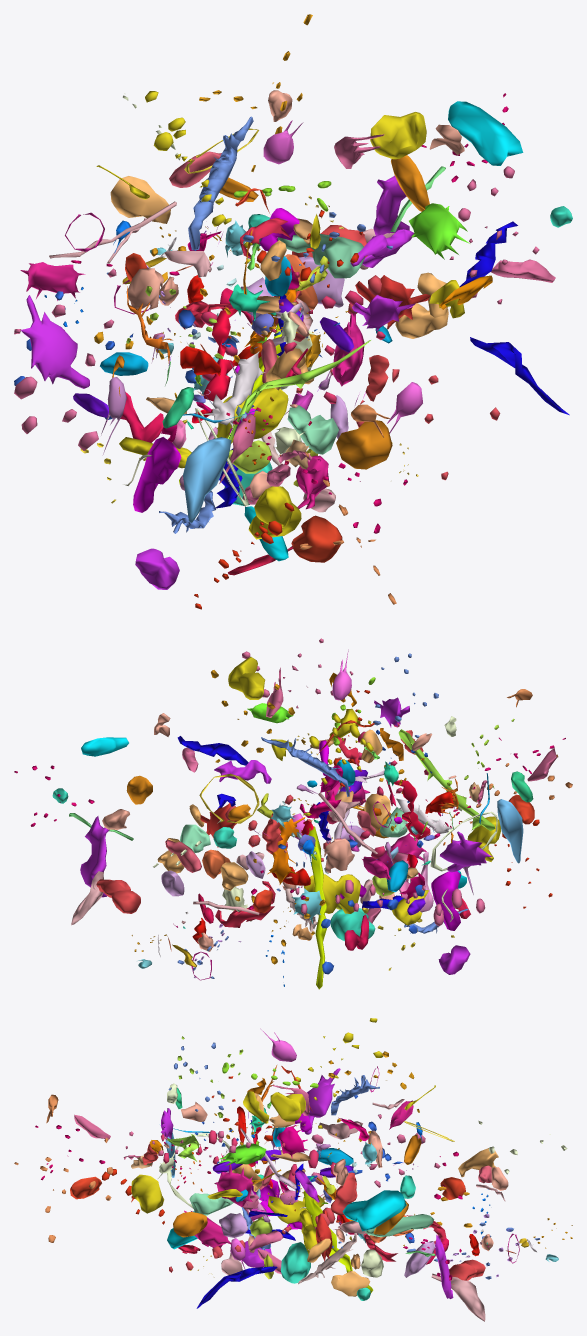
File: asset.glb
The picture shows the model from 3 angles, top to bottom: view 1: azimuth 30°, elevation 25°; view 2: azimuth 150°, elevation 25°; view 3: azimuth 270°, elevation 25°; orthographic projection. The views are drawn at different scales.
Parts seen in each view (by area): view 1: root.164; view 2: root.164; view 3: root.164.
Part boxes in pixels (left/top/right/bottom): root.164: left=14, top=14, right=572, bottom=609; root.164: left=14, top=638, right=572, bottom=989; root.164: left=14, top=1018, right=572, bottom=1321.
Size of the model in its own units: 168 by 122 by 208.
